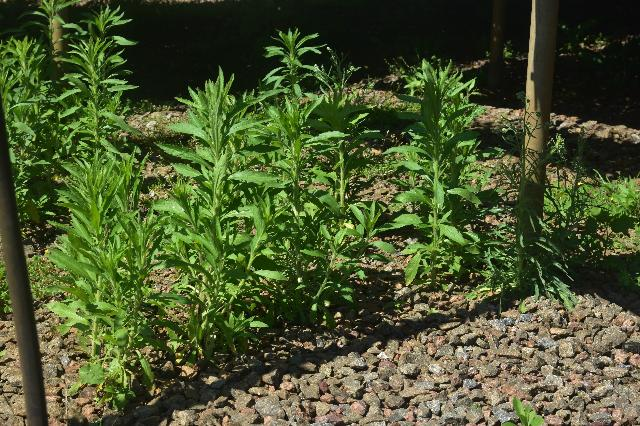MalezaMontesDelPlata: (161, 66, 262, 379), (55, 150, 159, 405), (387, 53, 482, 298), (260, 22, 329, 350), (315, 45, 379, 325), (493, 104, 564, 314), (52, 4, 135, 156), (0, 34, 52, 238), (550, 120, 612, 276), (607, 170, 640, 231)
